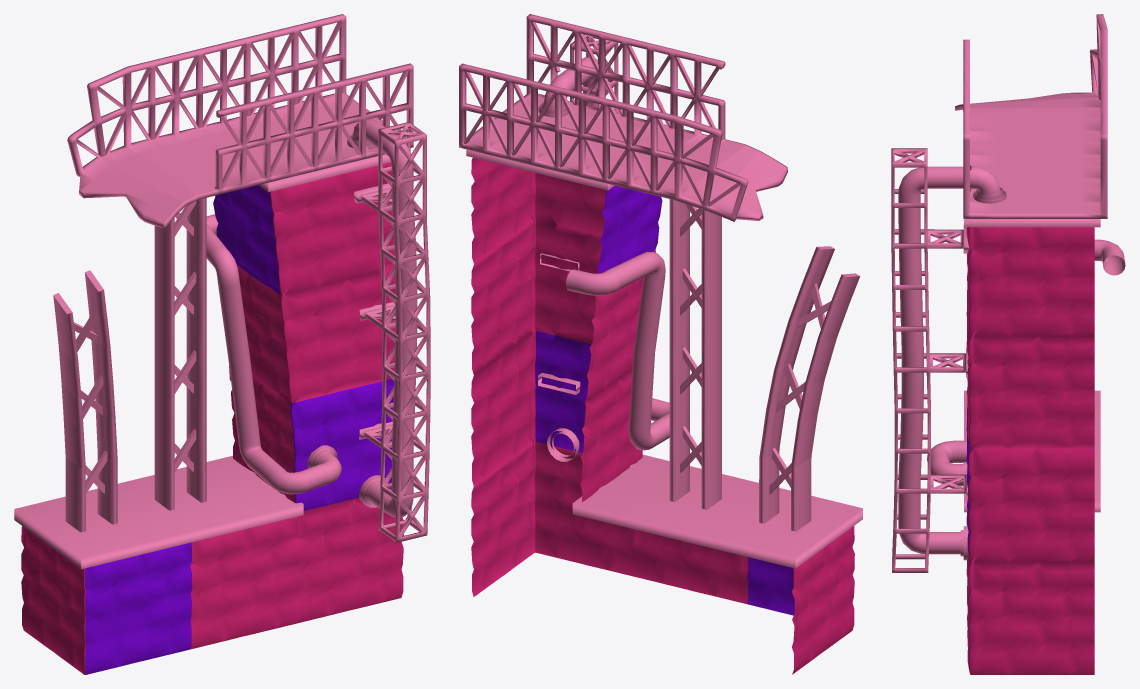
Rendered from HalfJail.fbx.
The picture shows the model from 3 angles, left to right: view 1: azimuth 30°, elevation 25°; view 2: azimuth 150°, elevation 25°; view 3: azimuth 270°, elevation 25°; orthographic projection.
Visible parts, largest first — view 1: HalfJail; view 2: HalfJail; view 3: HalfJail.
Part boxes in pixels (x1=…): HalfJail: x1=14, y1=14, x2=430, y2=674; HalfJail: x1=459, y1=14, x2=862, y2=674; HalfJail: x1=891, y1=14, x2=1125, y2=674.
Size of the model in its own units: 319 by 481 by 188.
